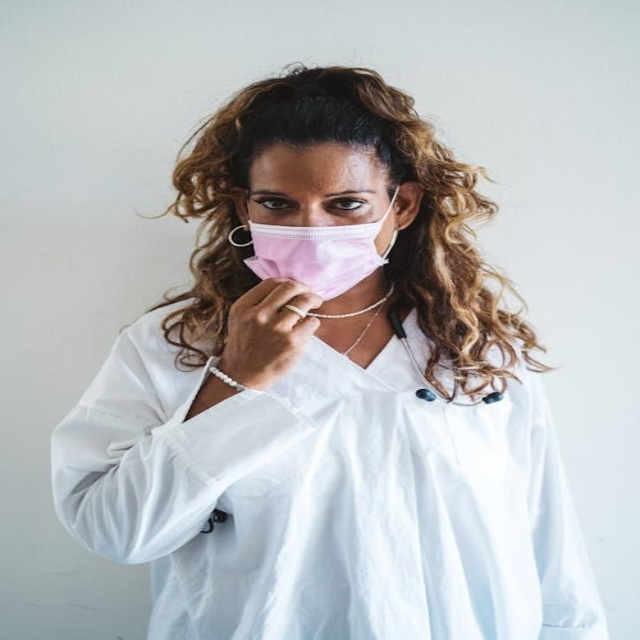Mascara: (238, 186, 400, 300)
Sin_gafas: (250, 185, 376, 223)
Sin_guantes: (216, 274, 329, 367)
